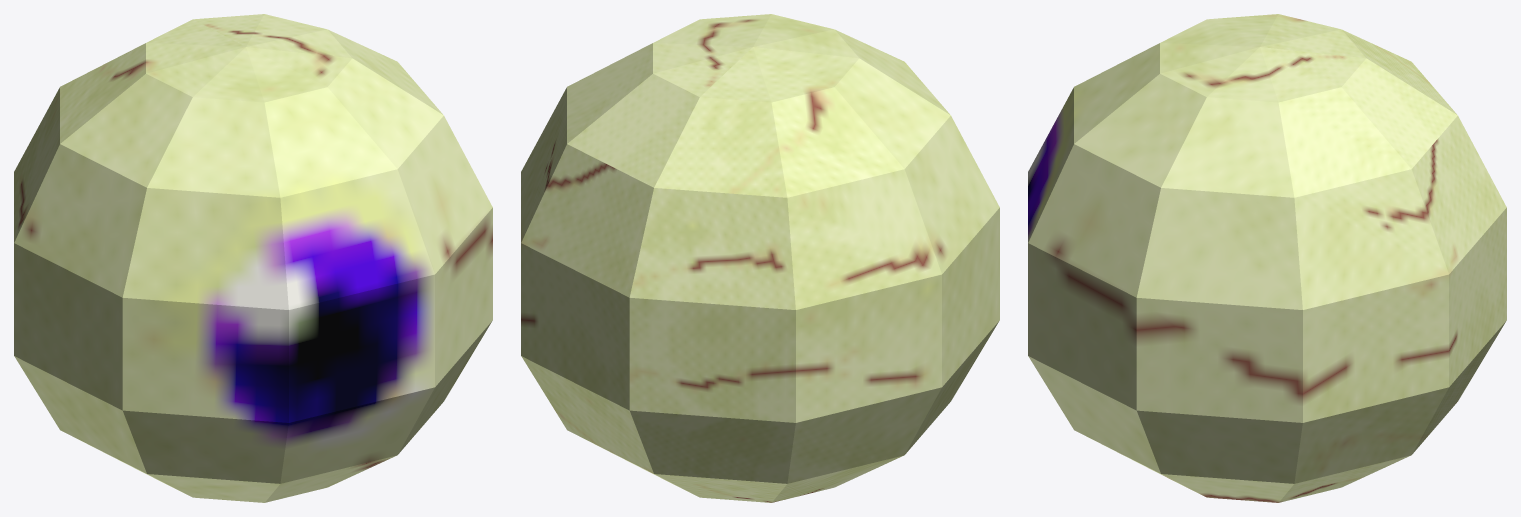
File: OjoFlotante.fbx
3 views of the same model, side by side, from view 1: azimuth 30°, elevation 25°; view 2: azimuth 150°, elevation 25°; view 3: azimuth 270°, elevation 25° (orthographic).
Parts seen in each view (by area): view 1: Sphere.001; view 2: Sphere.001; view 3: Sphere.001.
Boxes of the visible parts, x1,y1,x2,y2 form: Sphere.001: (14, 14, 492, 502); Sphere.001: (521, 14, 999, 502); Sphere.001: (1028, 14, 1506, 502).
Size of the model in its own units: 80.76 by 78.24 by 79.53.
